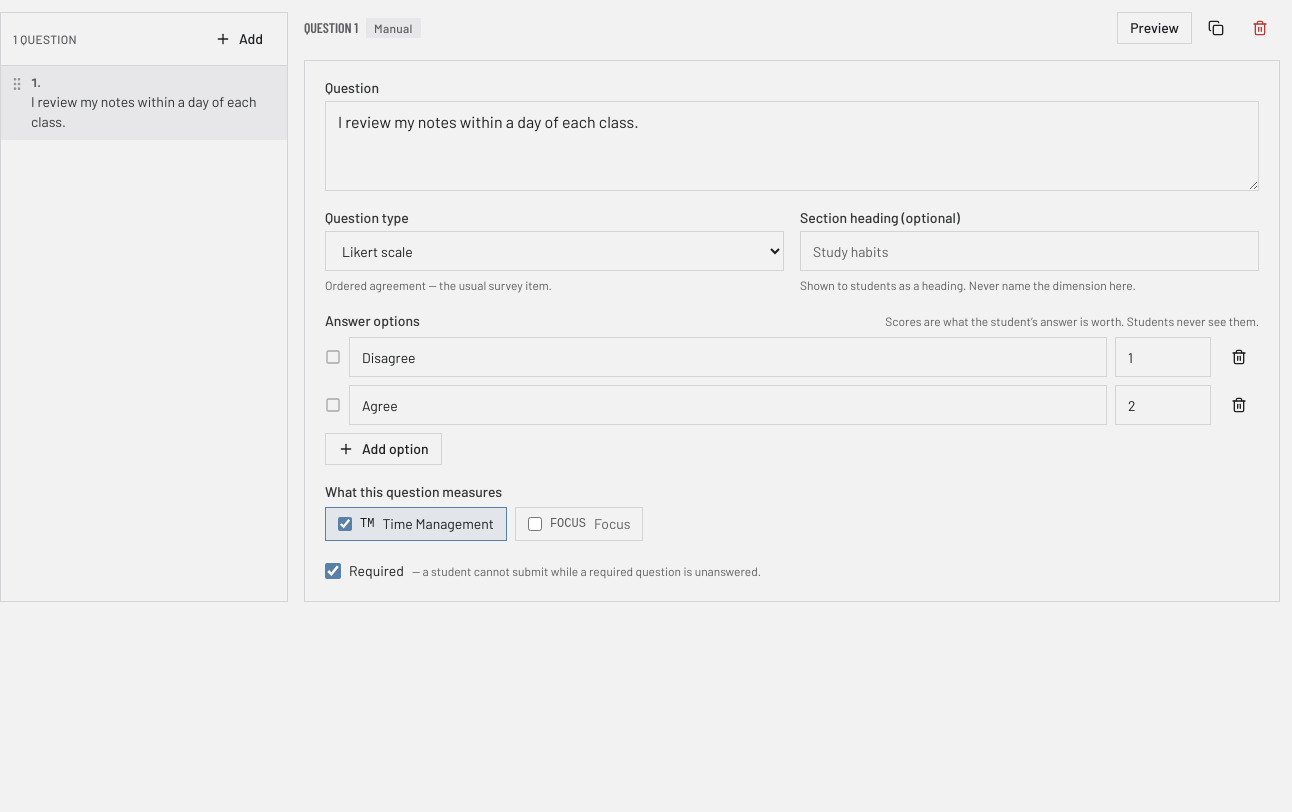
Test: auto-save › shows unsaved, then saved
Type "!" into the text box labelled "Question".
click(792, 146); type("!")  # box [325, 101, 1259, 191]
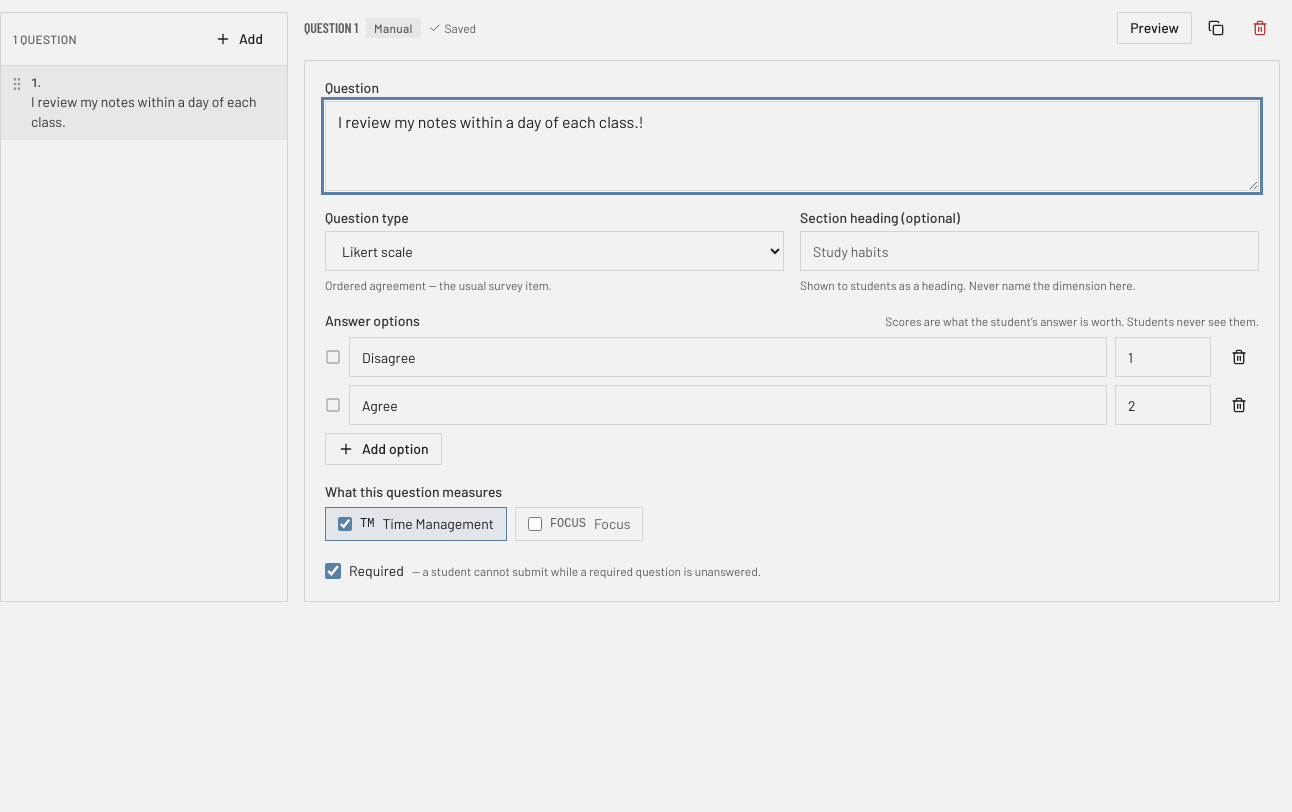
Expected: the text "Saved" is shown, [429, 20, 476, 36]
